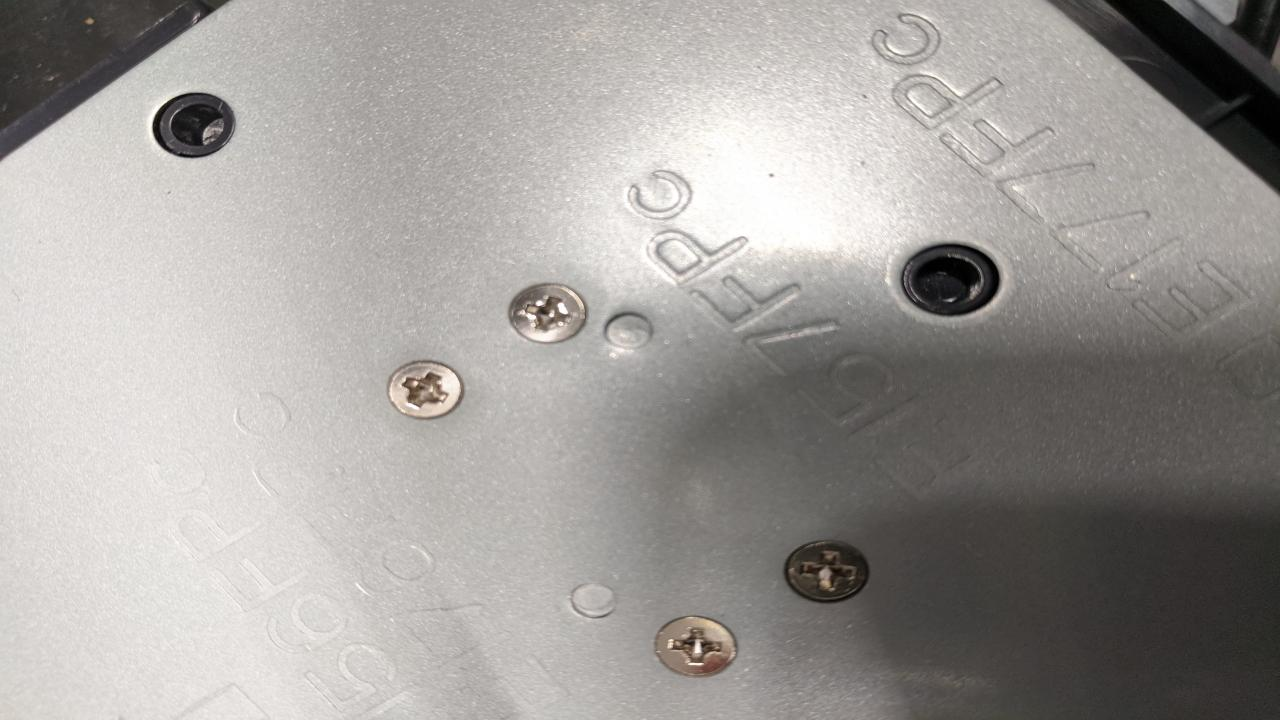CRS: (780, 536, 867, 602), (508, 282, 589, 349), (656, 617, 742, 678), (383, 358, 464, 417)
